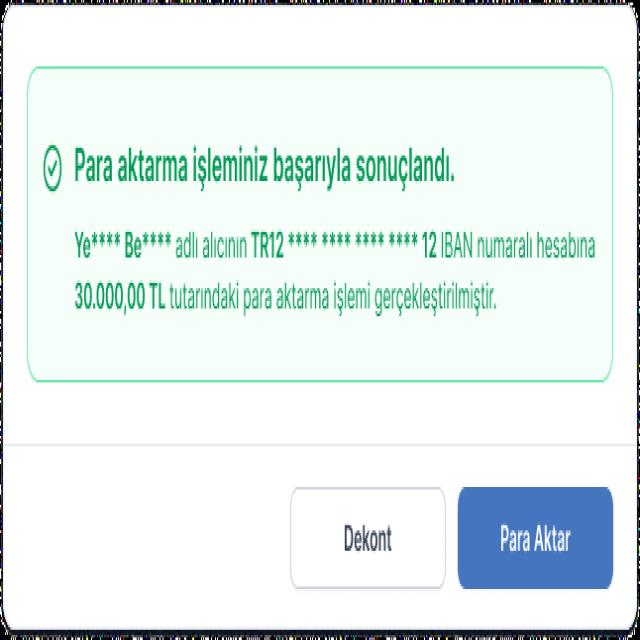QLabel: (72, 222, 599, 274), (72, 142, 456, 198), (73, 275, 498, 323), (496, 512, 574, 566), (338, 511, 397, 570)
VBtn: (288, 482, 447, 595), (458, 486, 614, 591)
VCard: (0, 0, 640, 640), (28, 64, 614, 388)
VDivider: (4, 438, 636, 457)
VIcon: (38, 136, 65, 200)
